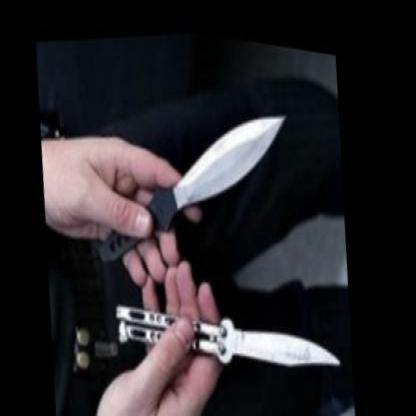knife: (83, 75, 305, 287), (106, 248, 352, 412)
